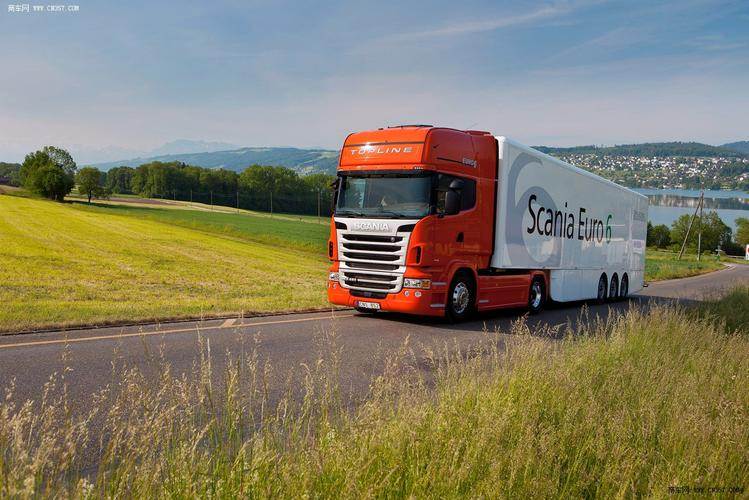卡车: (327, 116, 656, 319)
